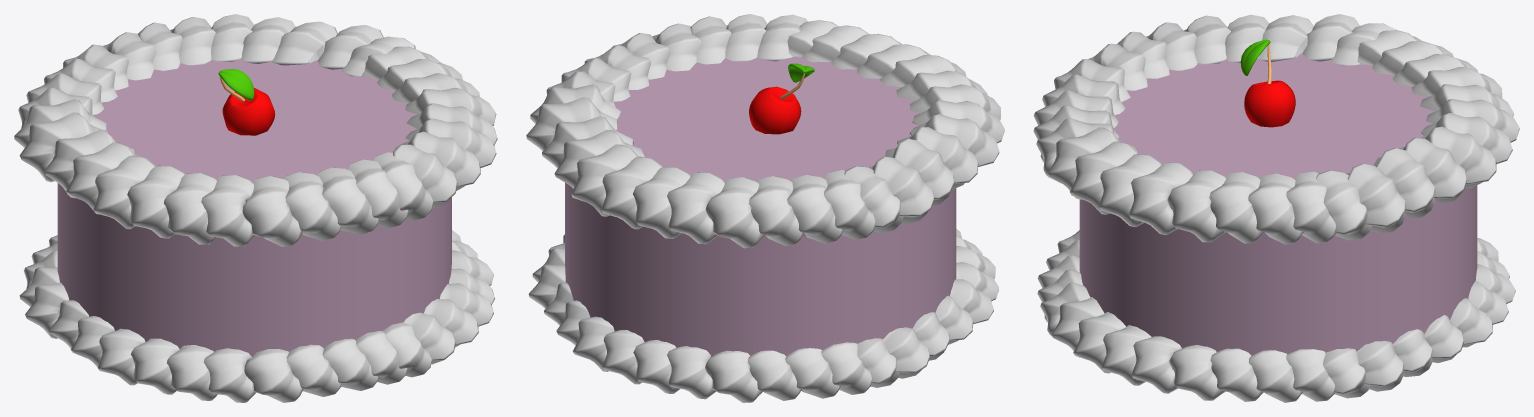
File: CakeModel.fbx
3 views of the same model, side by side, from view 1: azimuth 30°, elevation 25°; view 2: azimuth 150°, elevation 25°; view 3: azimuth 270°, elevation 25° (orthographic).
Visible parts, largest first — view 1: pCylinder1, Cream40, Cream41, polySurface1, leaf; view 2: pCylinder1, Cream40, Cream41, polySurface1; view 3: pCylinder1, Cream40, Cream41, polySurface1, leaf.
Part boxes in pixels (<box>): pCylinder1: <box>57,59,451,365</box>; Cream40: <box>14,14,497,246</box>; Cream41: <box>19,230,494,402</box>; polySurface1: <box>222,88,275,135</box>; leaf: <box>218,69,254,100</box>; pCylinder1: <box>565,56,956,375</box>; Cream40: <box>526,14,1004,248</box>; Cream41: <box>528,229,998,402</box>; polySurface1: <box>749,86,801,134</box>; pCylinder1: <box>1079,53,1477,355</box>; Cream40: <box>1033,14,1519,244</box>; Cream41: <box>1037,230,1515,402</box>; polySurface1: <box>1244,80,1295,127</box>; leaf: <box>1240,39,1270,75</box>.
Bounding box in the file's own units: 2.17 × 1.31 × 2.23.
